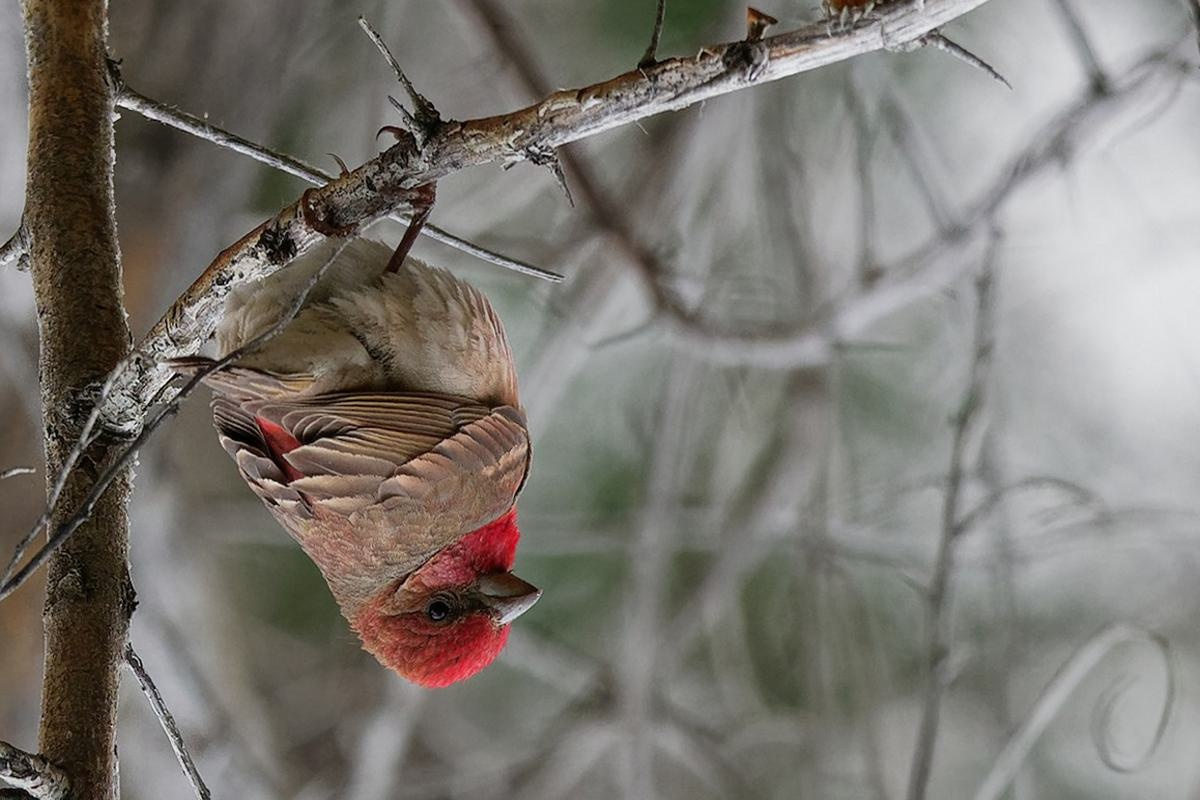rosefinch: (226, 216, 545, 677)
